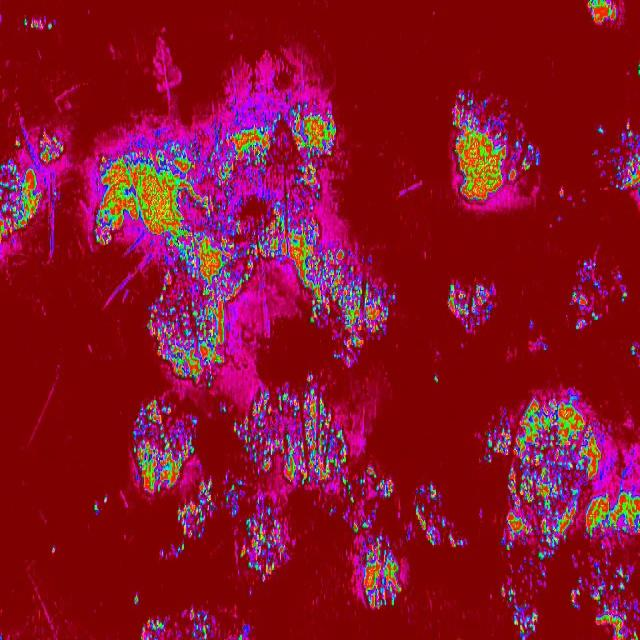fire: (92, 107, 282, 263), (484, 384, 640, 560), (282, 190, 398, 368), (222, 388, 354, 504), (146, 264, 258, 390), (131, 400, 215, 560), (449, 88, 542, 207), (0, 132, 63, 242), (282, 100, 345, 192), (567, 561, 640, 640), (570, 257, 628, 334), (498, 561, 549, 640), (238, 503, 284, 588), (410, 483, 465, 551), (358, 534, 401, 610), (447, 278, 491, 332), (612, 119, 640, 201), (356, 464, 394, 504), (182, 609, 212, 640), (584, 0, 622, 24), (20, 14, 58, 34), (138, 617, 167, 640), (348, 514, 374, 534), (233, 624, 252, 640), (535, 340, 550, 356), (303, 369, 316, 386), (528, 318, 538, 332), (556, 188, 566, 202), (630, 343, 638, 358), (132, 592, 140, 607), (92, 503, 102, 515), (229, 503, 237, 518), (598, 124, 606, 136), (102, 494, 109, 507), (432, 372, 439, 384), (636, 60, 640, 76), (326, 507, 334, 515), (51, 546, 57, 556)
